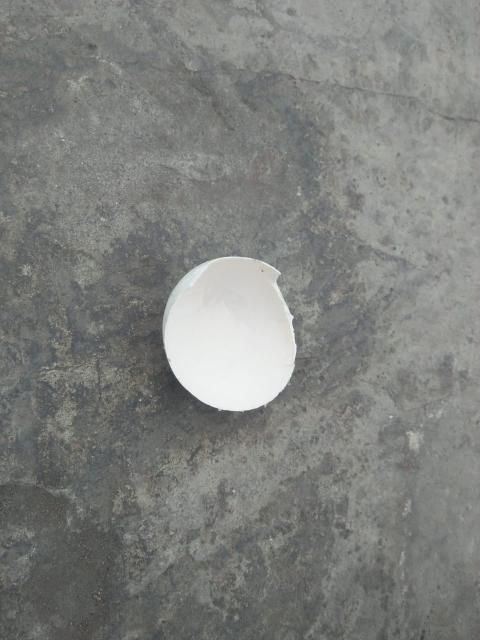Roto: (161, 255, 297, 412)
